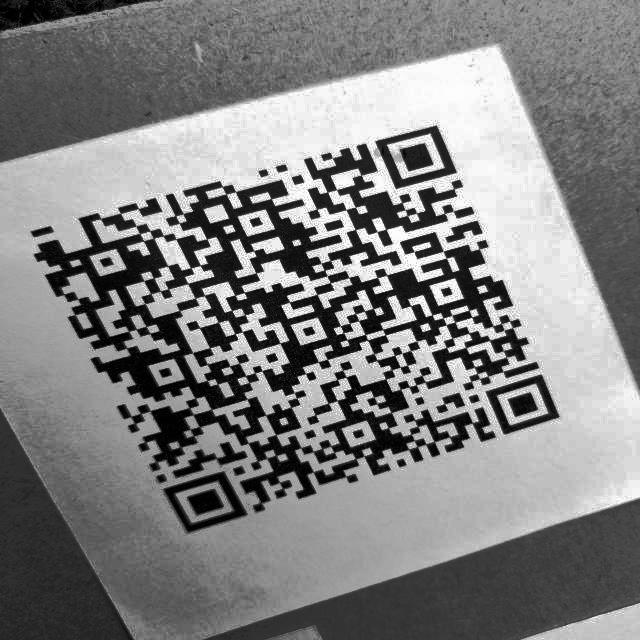qr_code: (11, 114, 584, 540)
